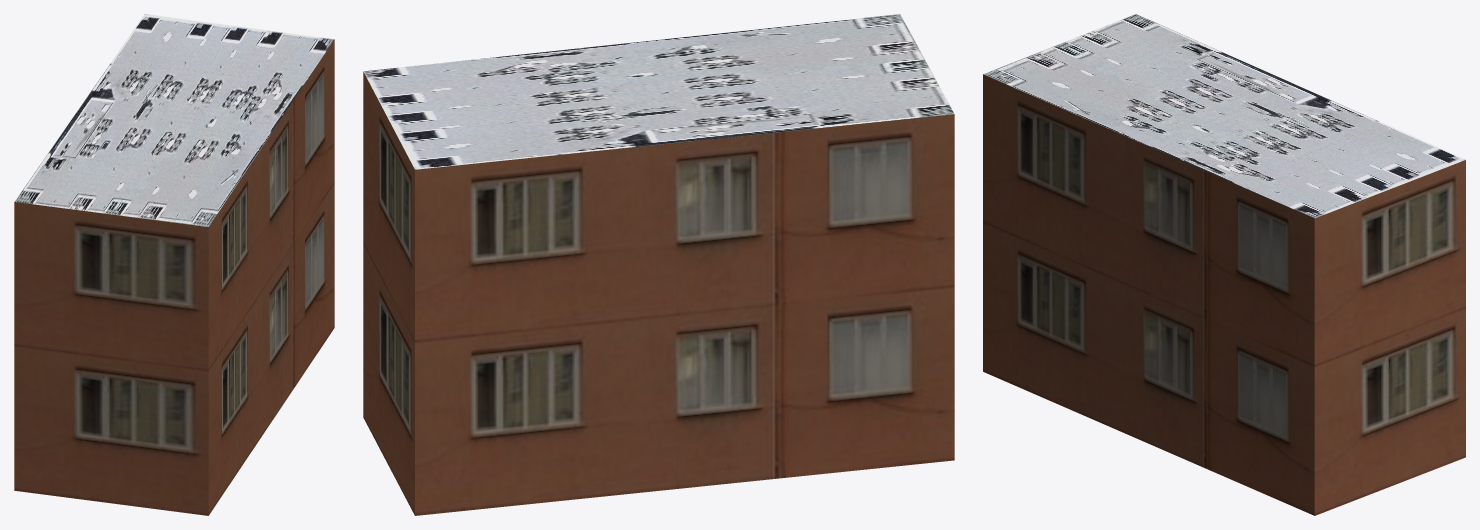
File: ResTex__3061.fbx
The picture shows the model from 3 angles, left to right: view 1: azimuth 30°, elevation 25°; view 2: azimuth 150°, elevation 25°; view 3: azimuth 270°, elevation 25°; orthographic projection. The views are drawn at different scales.
Visible parts, largest first — view 1: CityEngineMaterial_20_m, CityEngineMaterial_m; view 2: CityEngineMaterial_20_m, CityEngineMaterial_m; view 3: CityEngineMaterial_20_m, CityEngineMaterial_m.
Part boxes in pixels (left/top/right/bottom): CityEngineMaterial_20_m: left=14, top=39, right=334, bottom=515; CityEngineMaterial_m: left=14, top=14, right=333, bottom=226; CityEngineMaterial_20_m: left=363, top=72, right=954, bottom=515; CityEngineMaterial_m: left=363, top=14, right=954, bottom=169; CityEngineMaterial_20_m: left=983, top=74, right=1465, bottom=515; CityEngineMaterial_m: left=983, top=14, right=1465, bottom=218.
Size of the model in its own units: 8.84 by 6 by 8.83.
2 materials, 2 textured.
